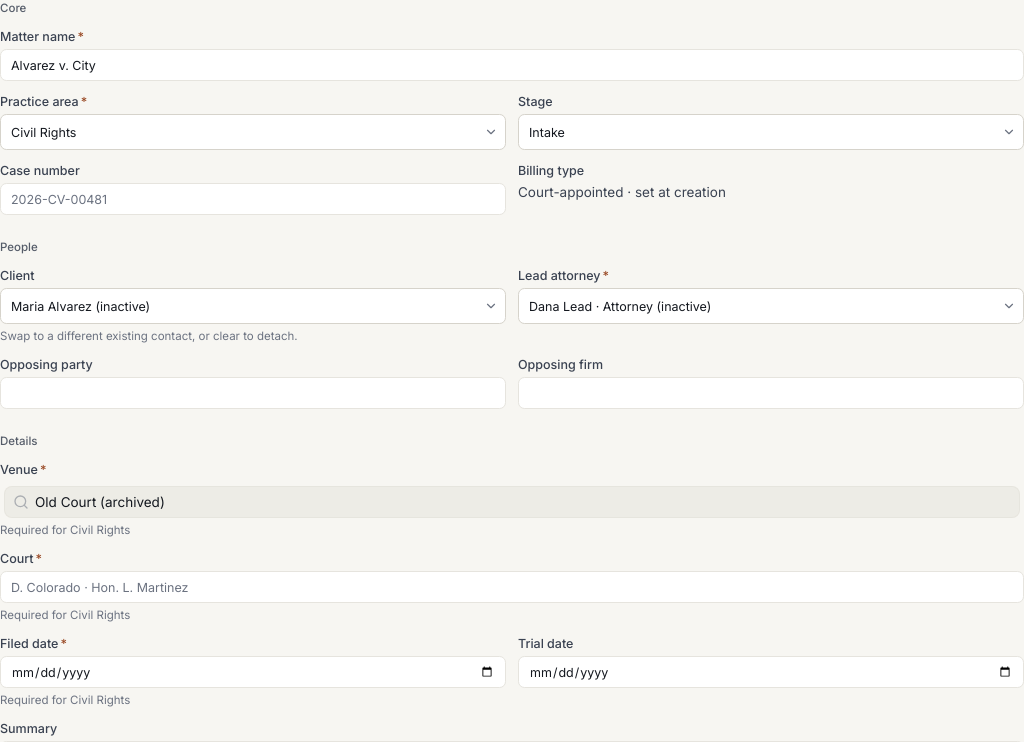
Test case: EditMatterForm — venue, filed/trial dates, required fields › an archived current venue is kept selected and labelled (archived)
Click the dropdown named "venue" at [524, 502], box [29,492,1019,512]
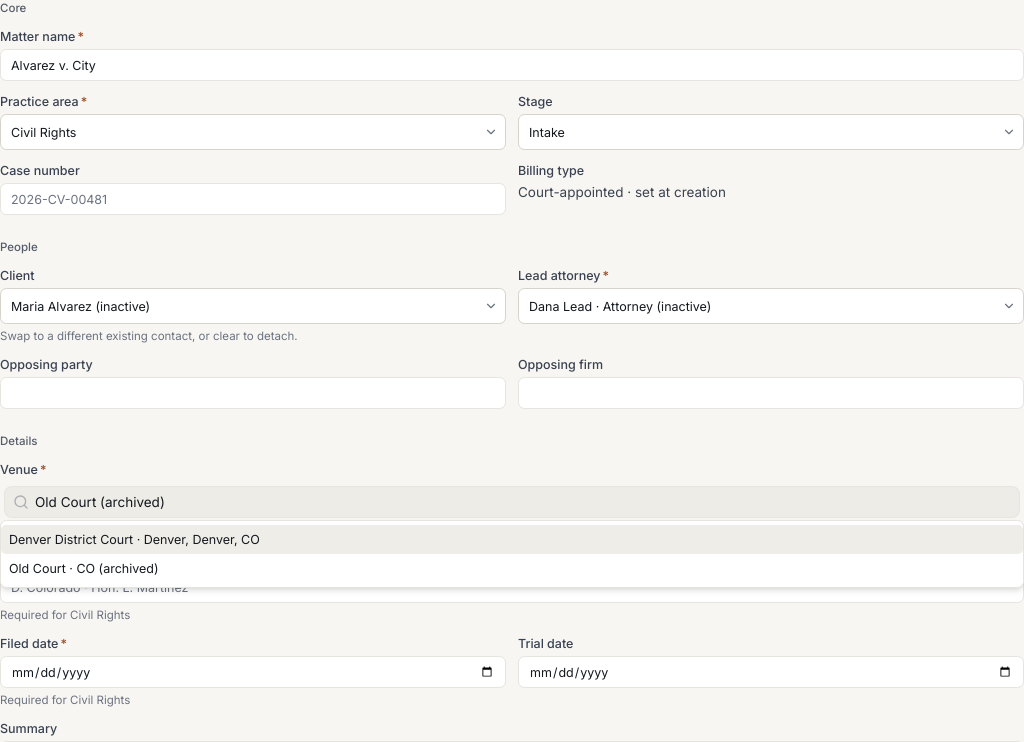
Expected: the option "Old Court · CO (archived)" is shown, [9,561,158,576]
